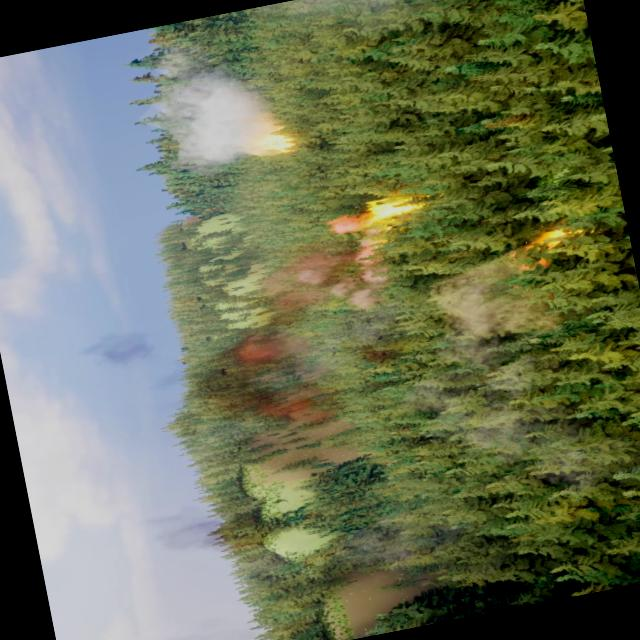fire: (341, 187, 421, 235), (513, 216, 588, 266), (254, 127, 294, 157)
smoke: (148, 42, 275, 172), (246, 224, 380, 328), (430, 240, 548, 354)
